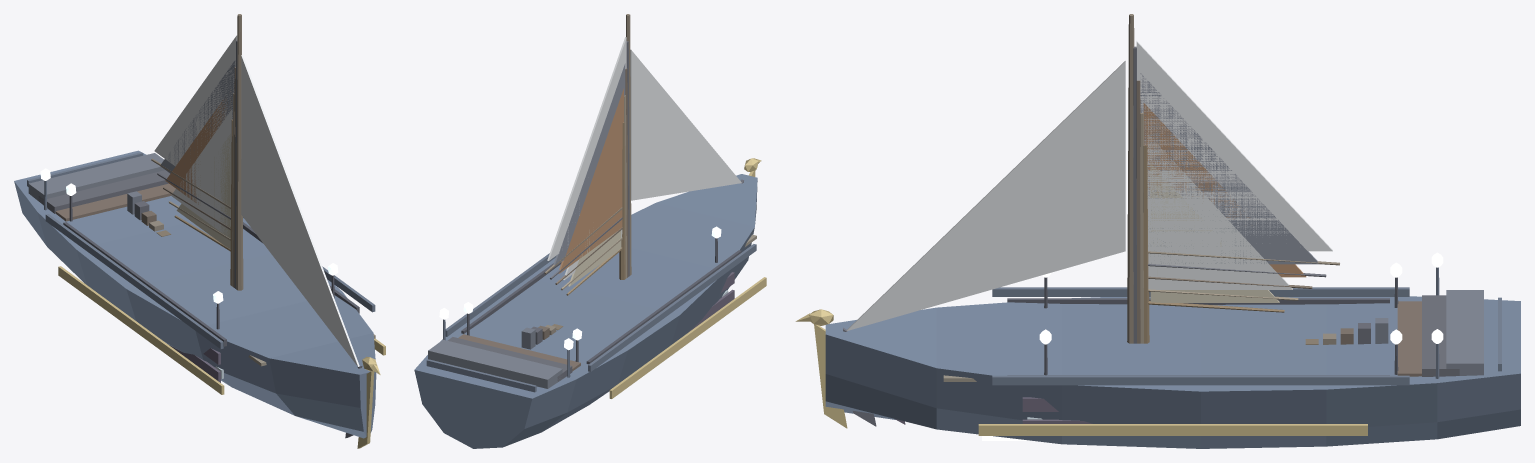
Rendered from boat.glb.
The picture shows the model from 3 angles, left to right: view 1: azimuth 30°, elevation 25°; view 2: azimuth 150°, elevation 25°; view 3: azimuth 270°, elevation 25°; orthographic projection. The views are drawn at different scales.
Parts seen in each view (by area): view 1: StormbreakerKeel_Hull, StormbreakerKeel_Sail, IcebreakerProw_Sail, StormbreakerKeel_Rail, StormbreakerKeel_Shelf, StormbreakerKeel_Trim, StormbreakerKeel_Mast, AbyssalLanterns_Shelf, AshguardPlating_Sail, AbyssalLanterns_Sail, IronbogHull_Sail, AbyssalLanterns_Rail (+7 smaller); view 2: StormbreakerKeel_Hull, StormbreakerKeel_Sail, AshguardPlating_Sail, StormbreakerKeel_Rail, StormbreakerKeel_Shelf, StormbreakerKeel_Trim, AbyssalLanterns_Rail, AbyssalLanterns_Sail, IronbogHull_Sail, StormbreakerKeel_Mast, IronbogHull_Mast, AbyssalLanterns_Shelf (+5 smaller); view 3: StormbreakerKeel_Hull, StormbreakerKeel_Sail, IcebreakerProw_Sail, StormbreakerKeel_Rail, AbyssalLanterns_Sail, StormbreakerKeel_Trim, AshguardPlating_Sail, StormbreakerKeel_Shelf, StormbreakerKeel_Mast, AbyssalLanterns_Rail, IronbogHull_Sail, AbyssalLanterns_Shelf (+7 smaller).
Boxes of the visible parts, x1=… form: StormbreakerKeel_Hull: x1=14, y1=150, x2=376, y2=438; StormbreakerKeel_Sail: x1=154, y1=35, x2=359, y2=366; IcebreakerProw_Sail: x1=171, y1=109, x2=232, y2=236; StormbreakerKeel_Rail: x1=27, y1=152, x2=375, y2=348; StormbreakerKeel_Shelf: x1=28, y1=153, x2=164, y2=204; StormbreakerKeel_Trim: x1=58, y1=266, x2=385, y2=394; StormbreakerKeel_Mast: x1=151, y1=14, x2=243, y2=290; AbyssalLanterns_Shelf: x1=38, y1=170, x2=169, y2=213; AshguardPlating_Sail: x1=165, y1=89, x2=231, y2=204; AbyssalLanterns_Sail: x1=160, y1=60, x2=235, y2=173; IronbogHull_Sail: x1=176, y1=134, x2=230, y2=249; AbyssalLanterns_Rail: x1=63, y1=196, x2=359, y2=346; StormbreakerKeel_Hull: x1=414, y1=174, x2=757, y2=448; StormbreakerKeel_Sail: x1=547, y1=37, x2=741, y2=260; AshguardPlating_Sail: x1=559, y1=88, x2=623, y2=273; StormbreakerKeel_Rail: x1=426, y1=244, x2=756, y2=392; StormbreakerKeel_Shelf: x1=428, y1=339, x2=562, y2=388; StormbreakerKeel_Trim: x1=609, y1=277, x2=766, y2=398; AbyssalLanterns_Rail: x1=461, y1=238, x2=741, y2=364; AbyssalLanterns_Sail: x1=553, y1=63, x2=625, y2=266; IronbogHull_Sail: x1=568, y1=230, x2=621, y2=286; StormbreakerKeel_Mast: x1=544, y1=14, x2=631, y2=275; IronbogHull_Mast: x1=566, y1=122, x2=625, y2=295; AbyssalLanterns_Shelf: x1=447, y1=337, x2=572, y2=382; StormbreakerKeel_Hull: x1=825, y1=296, x2=1520, y2=448; StormbreakerKeel_Sail: x1=846, y1=41, x2=1332, y2=330; IcebreakerProw_Sail: x1=1147, y1=133, x2=1292, y2=289; StormbreakerKeel_Rail: x1=992, y1=267, x2=1501, y2=385; AbyssalLanterns_Sail: x1=1140, y1=73, x2=1319, y2=264; StormbreakerKeel_Trim: x1=978, y1=424, x2=1367, y2=435; AshguardPlating_Sail: x1=1143, y1=103, x2=1306, y2=277; StormbreakerKeel_Shelf: x1=1446, y1=290, x2=1483, y2=375; StormbreakerKeel_Mast: x1=1127, y1=14, x2=1339, y2=343; AbyssalLanterns_Rail: x1=1007, y1=277, x2=1398, y2=375; IronbogHull_Sail: x1=1150, y1=163, x2=1279, y2=302; AbyssalLanterns_Shelf: x1=1422, y1=295, x2=1459, y2=376.
Bounding box in the file's own units: 8 × 16.17 × 25.05.
